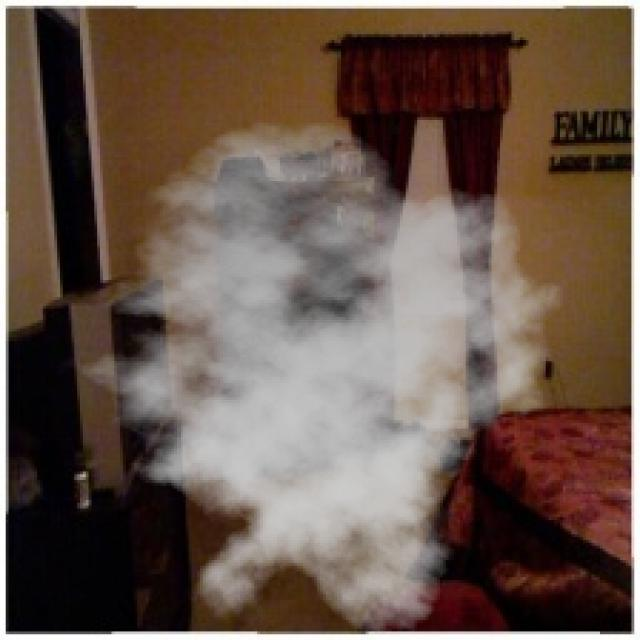smoke: (57, 120, 577, 637)
